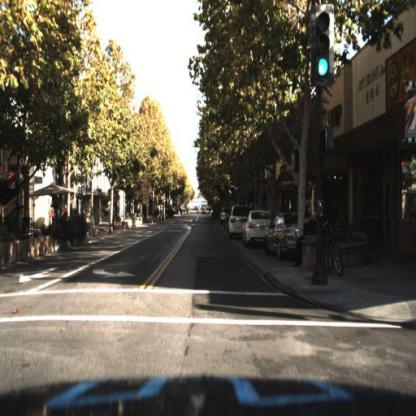car: (265, 213, 300, 256), (242, 214, 270, 245), (231, 206, 248, 240)
pedestrian: (294, 210, 320, 268), (50, 203, 55, 228), (72, 205, 77, 227)
trafficLight: (315, 8, 337, 80)
